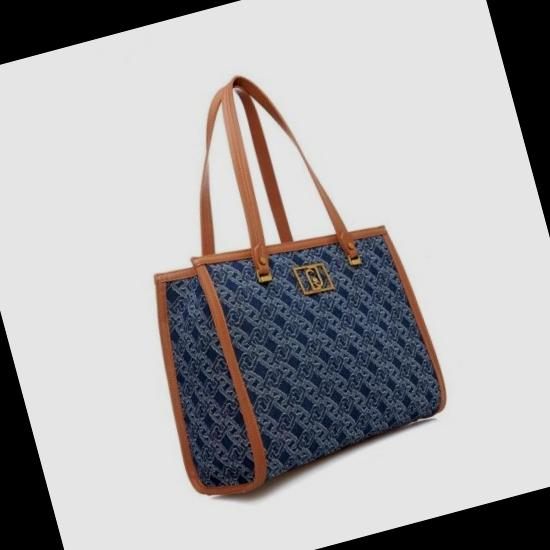LIU-JO: (302, 261, 324, 292)
